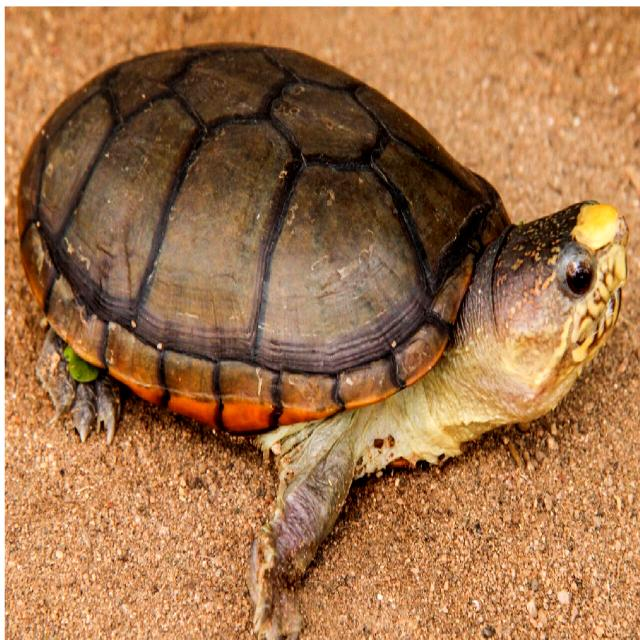Sea turtle: (17, 34, 625, 593)
